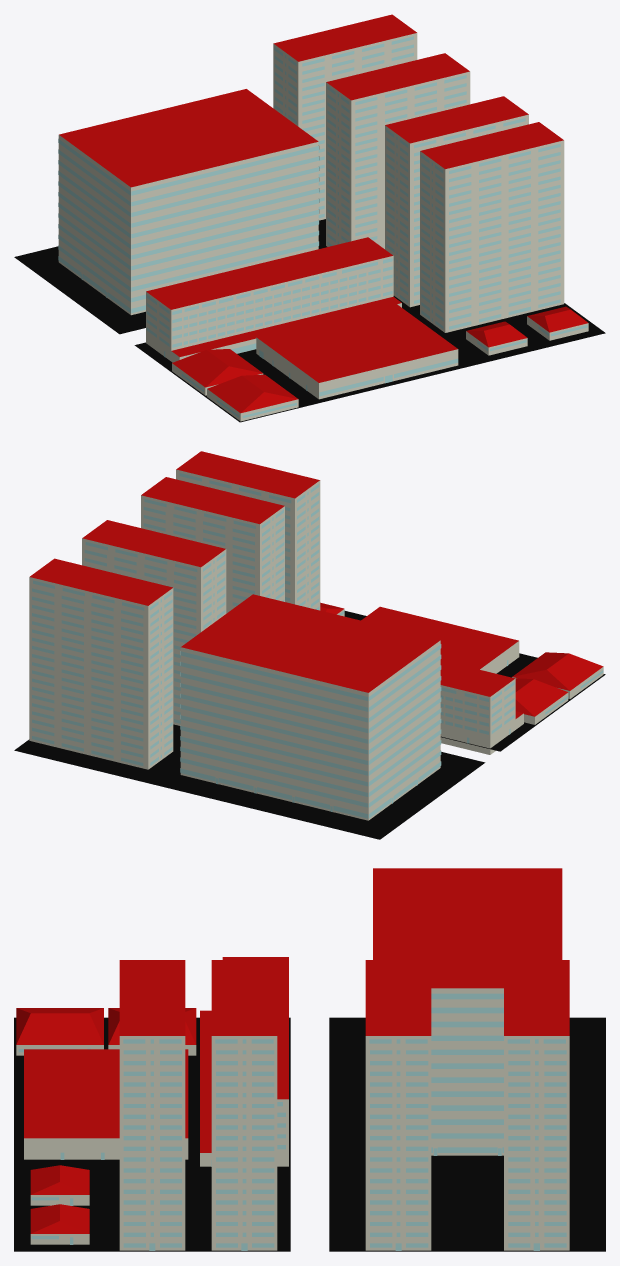
3 renders of one model, top to bottom at view 1: azimuth 30°, elevation 25°; view 2: azimuth 150°, elevation 25°; view 3: azimuth 270°, elevation 25°, orthographic. The views are drawn at different scales.
Visible parts, largest first — view 1: Walls, Roofs, Windows, Ground; view 2: Walls, Roofs, Windows, Ground; view 3: Roofs, Walls, Ground, Windows.
Part boxes in pixels (left/top/right/bottom): Walls: left=58, top=33, right=588, bottom=421; Roofs: left=59, top=14, right=587, bottom=413; Windows: left=58, top=36, right=587, bottom=418; Ground: left=14, top=219, right=605, bottom=422; Walls: left=29, top=469, right=603, bottom=820; Roofs: left=30, top=451, right=603, bottom=718; Windows: left=32, top=473, right=603, bottom=818; Ground: left=14, top=611, right=605, bottom=839; Roofs: left=16, top=868, right=569, bottom=1233; Walls: left=16, top=988, right=569, bottom=1250; Ground: left=14, top=1017, right=605, bottom=1251; Windows: left=18, top=993, right=566, bottom=1250.
Size of the model in its own units: 142 by 63.4 by 152.
